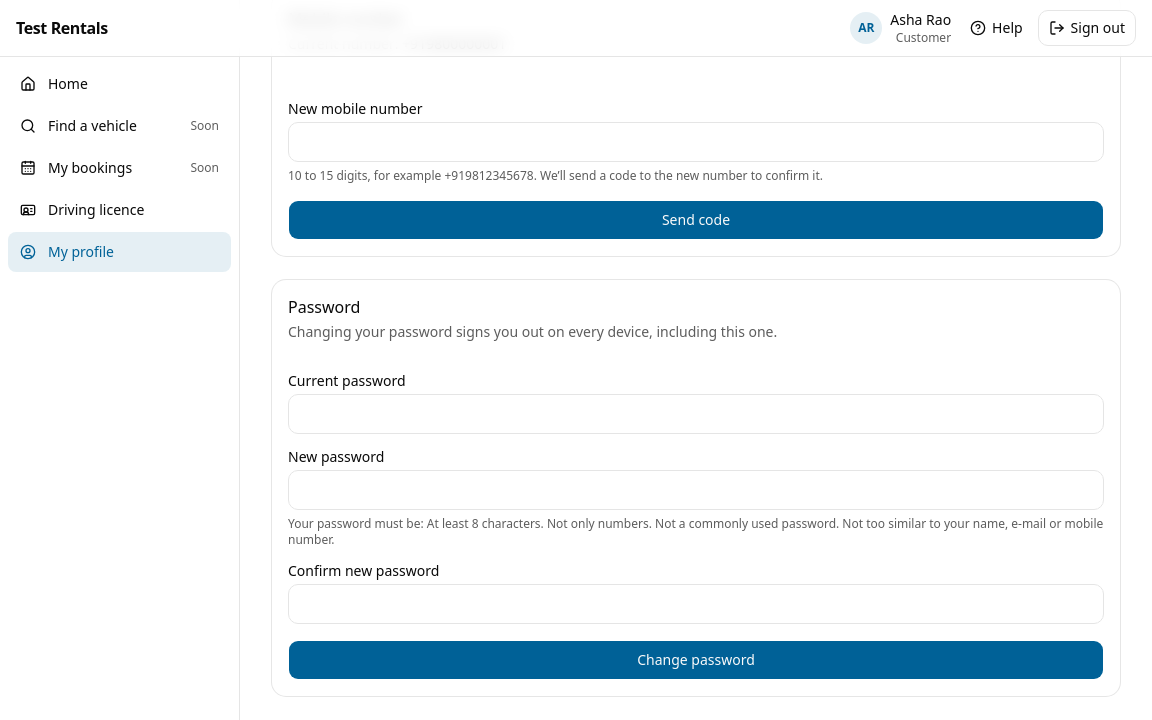
Profile › a password change signs the user out everywhere and says so (A11)
(page scrolled)
In the password field labelled "Current password": (696, 414) [288,394,1104,434], type "Demo@1234"
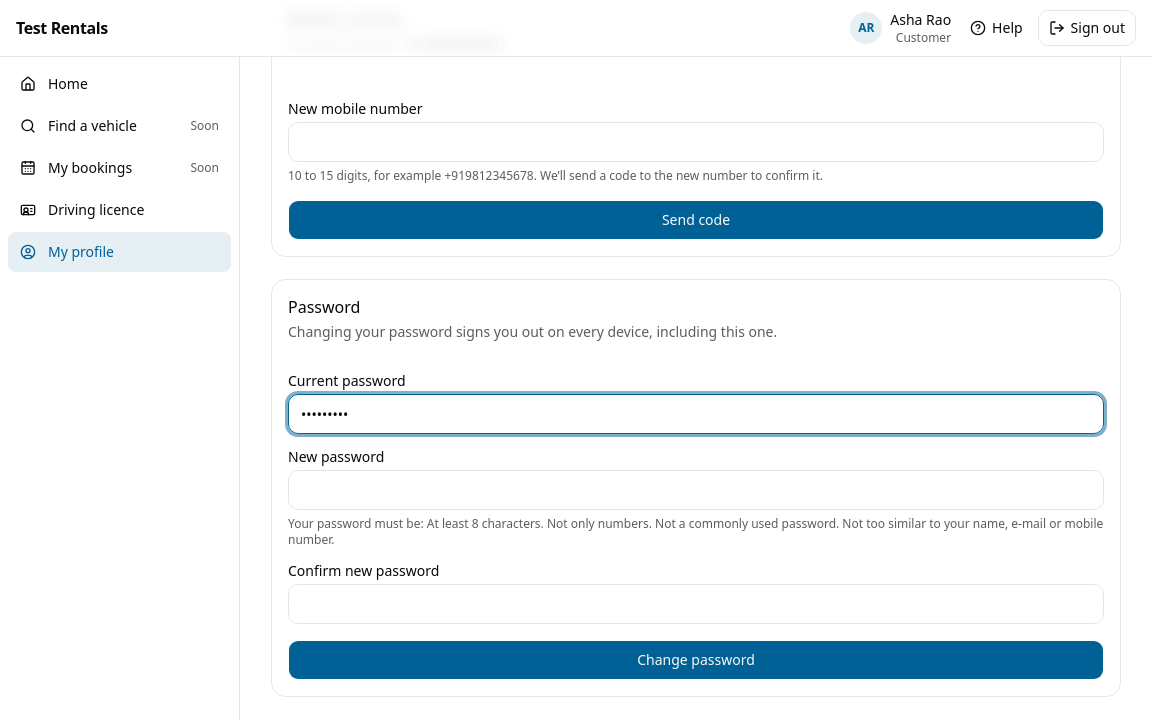
In the password field labelled "New password": (696, 490) [288,470,1104,510], type "N3w!Passw0rd-2026"
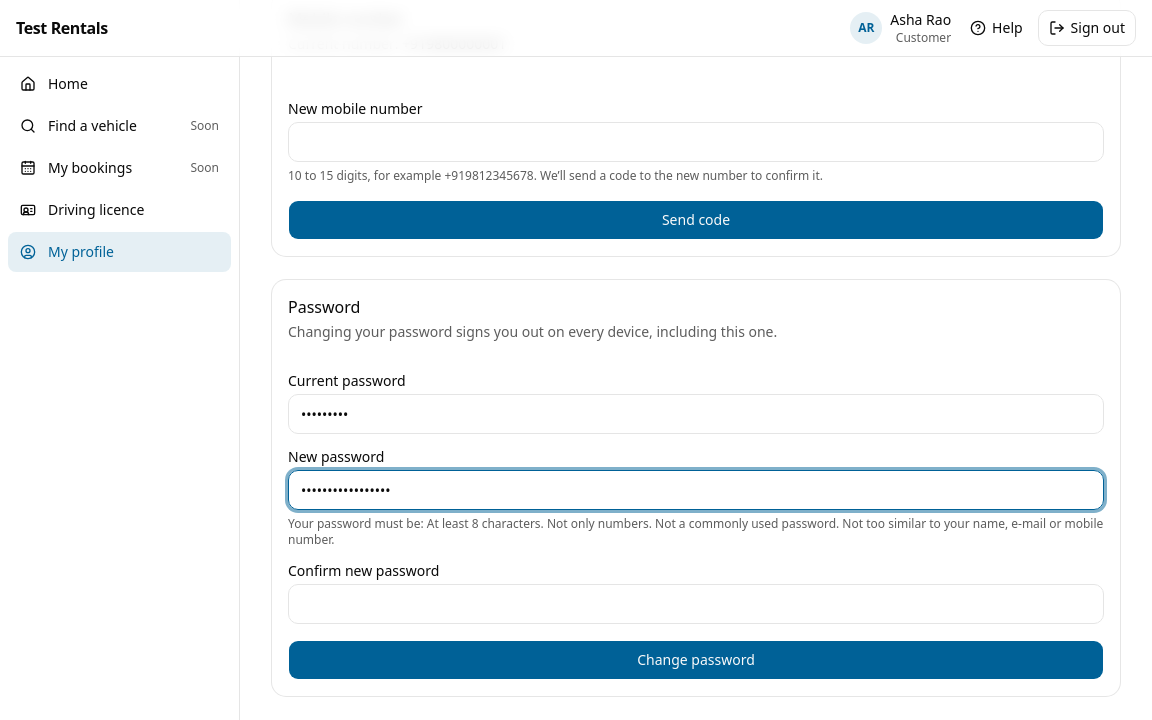
In the password field labelled "Confirm new password": (696, 604) [288,584,1104,624], type "N3w!Passw0rd-2026"
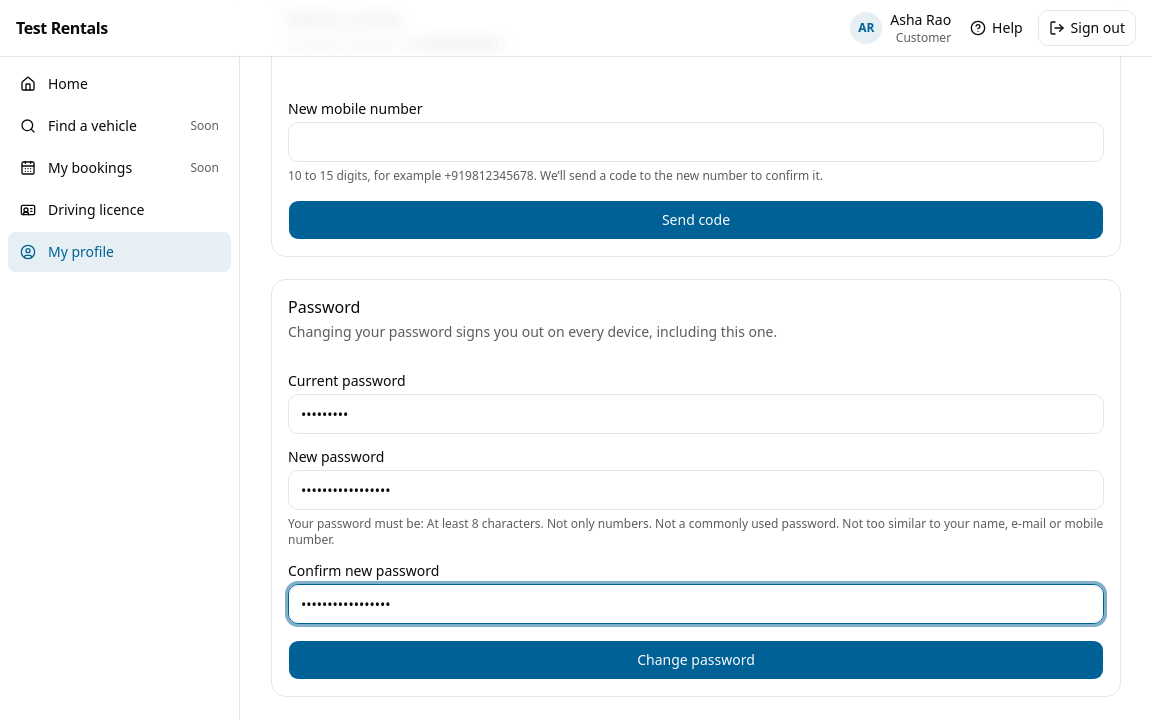
Click the button "Change password": (696, 660) [288,640,1104,680]
(page scrolled)
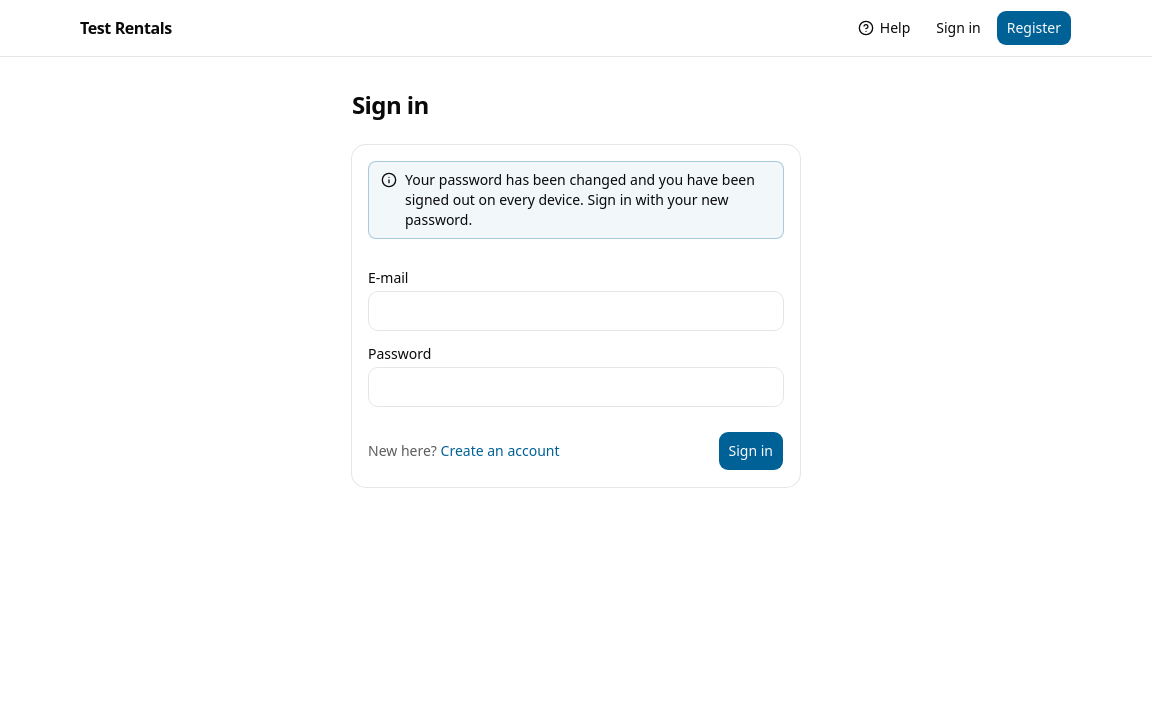
Check: the heading "Sign in" is shown, box [352,89,429,121]
Check: the text "Your password has been changed and you have been signed out on every device. Sign in with your new password." is shown, box [405,170,755,229]
